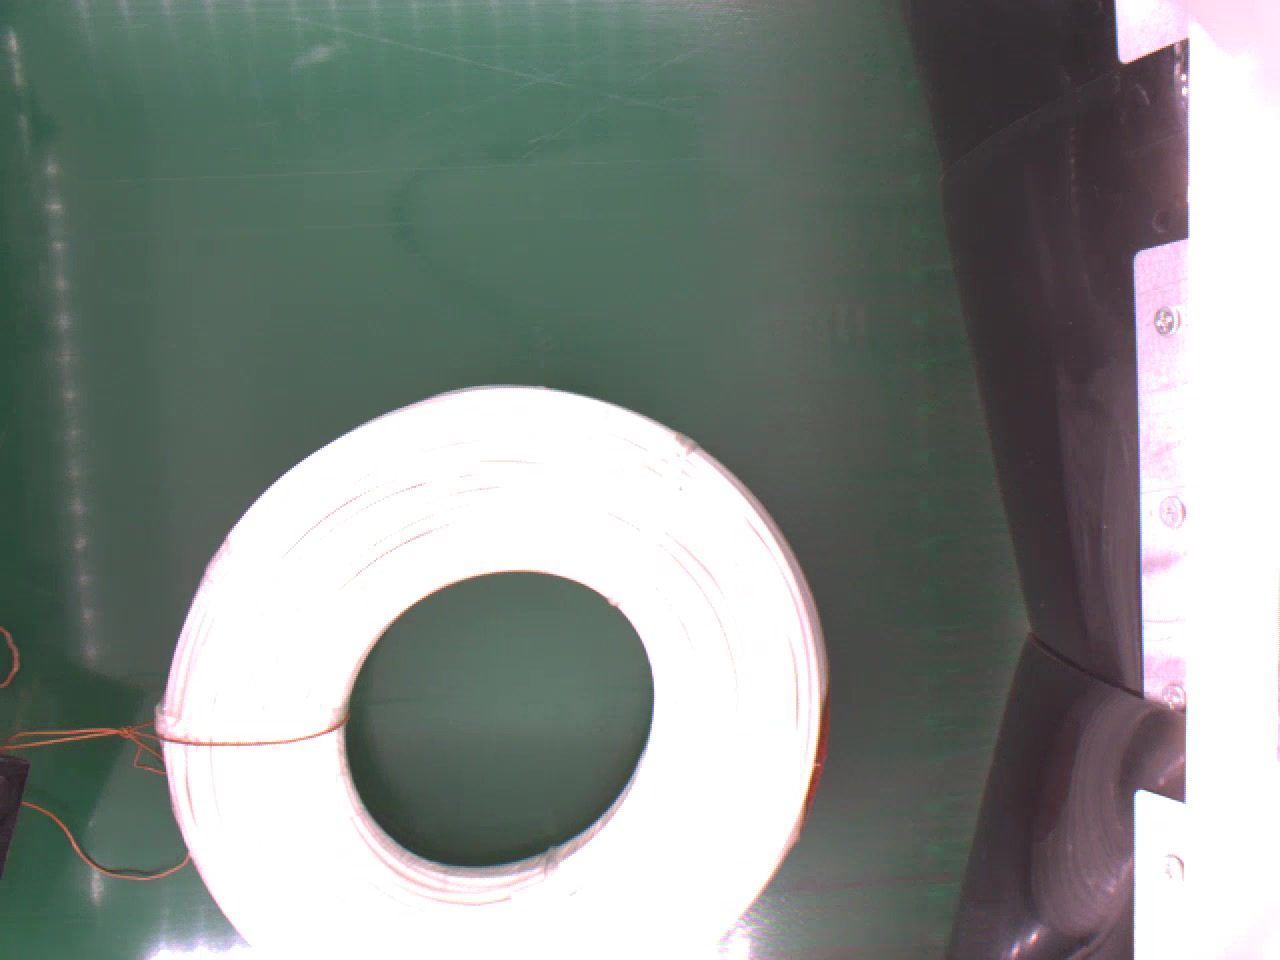white: (151, 383, 823, 949)
